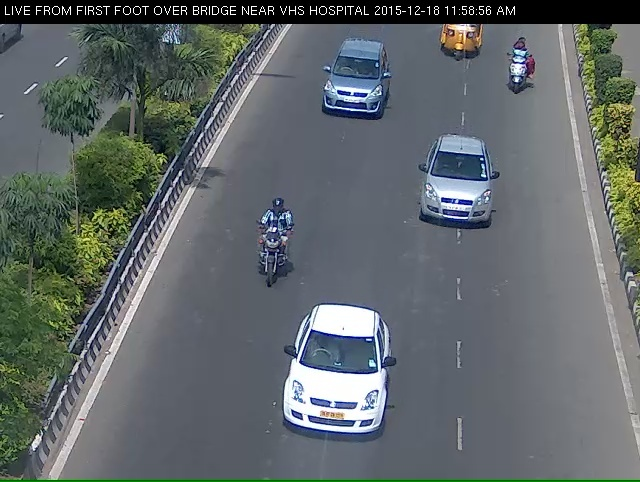Car: (271, 336, 387, 480), (416, 136, 490, 248), (314, 51, 383, 136), (431, 21, 487, 74)
Person: (233, 211, 285, 317), (497, 37, 533, 109)
